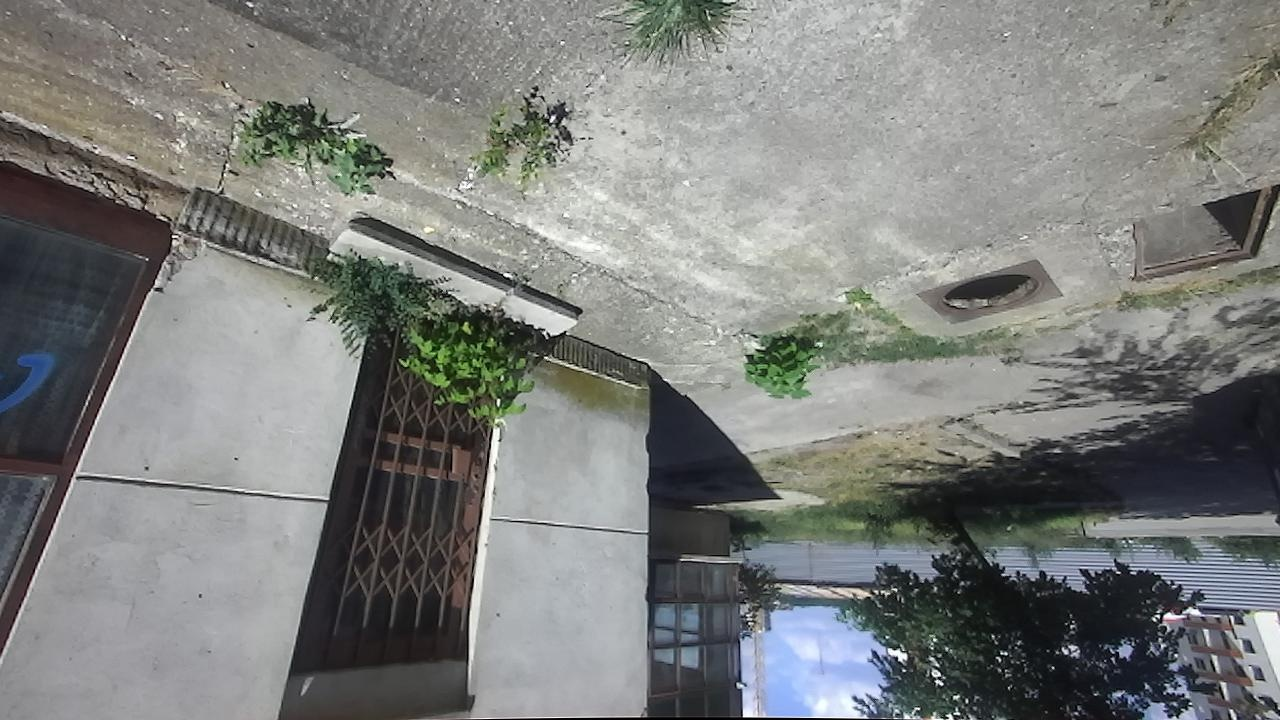drain: (1130, 179, 1279, 282), (922, 268, 1048, 315)
